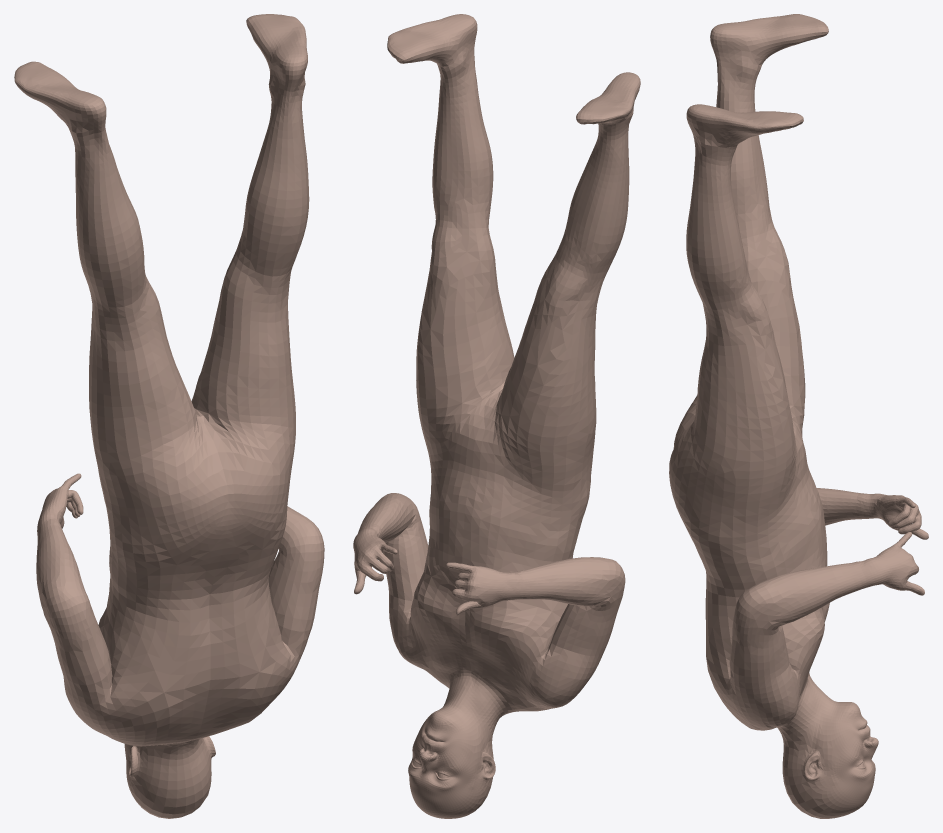
File: Leo_Texturas4.glb
3 renders of one model, left to right at view 1: azimuth 30°, elevation 25°; view 2: azimuth 150°, elevation 25°; view 3: azimuth 270°, elevation 25°, orthographic. The views are drawn at different scales.
Parts seen in each view (by area): view 1: geometry_0; view 2: geometry_0; view 3: geometry_0.
Part boxes in pixels (box(x1,y1,x2,y2)): geometry_0: box(14, 14, 324, 818); geometry_0: box(353, 14, 640, 818); geometry_0: box(669, 14, 928, 818).
Size of the model in its own units: 0.6356 by 1.71 by 0.5478.
